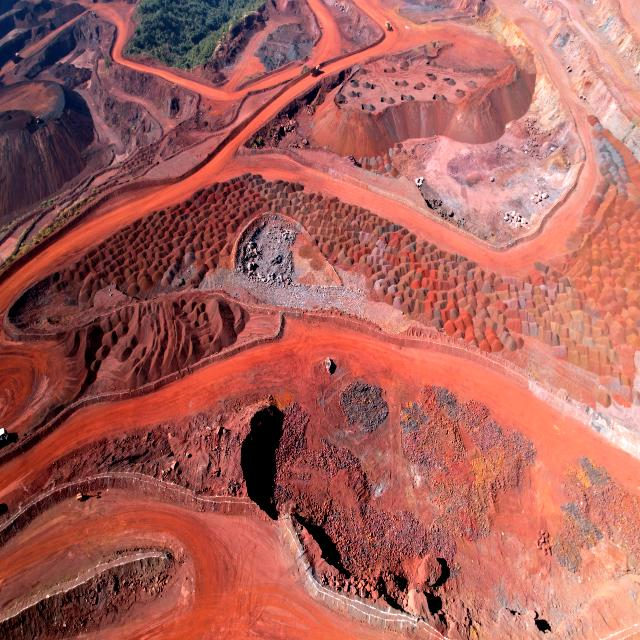Dumper truck: (314, 64, 324, 76), (10, 51, 20, 63), (385, 21, 391, 31)
